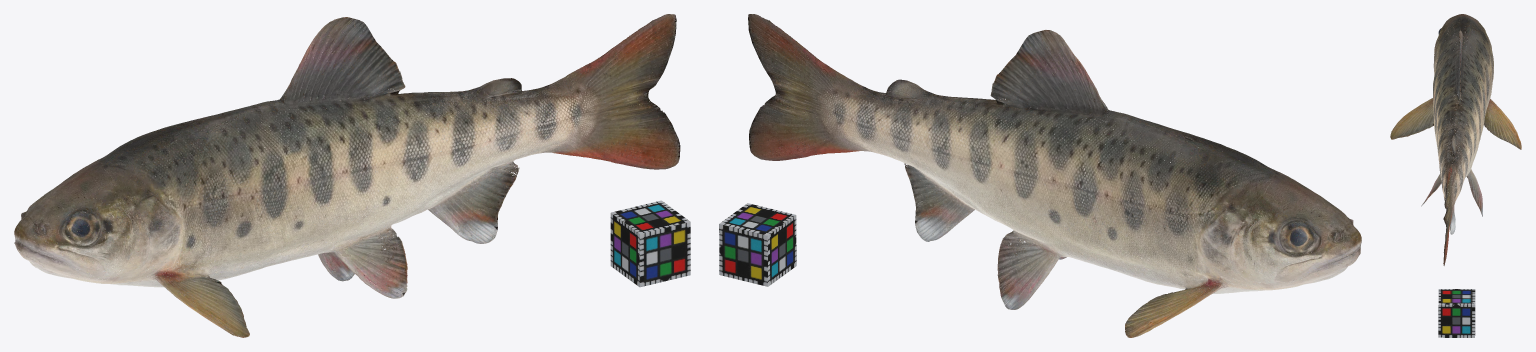
File: scan_yamame.glb
3 renders of one model, left to right at view 1: azimuth 30°, elevation 25°; view 2: azimuth 150°, elevation 25°; view 3: azimuth 270°, elevation 25°, orthographic. The views are drawn at different scales.
Parts seen in each view (by area): view 1: Object_6, Object_10, Object_4; view 2: Object_10, Object_6, Object_4; view 3: Object_10, Object_6, Object_4.
Boxes of the visible parts, left/top/right/bottom form: Object_6: left=14, top=14, right=680, bottom=337; Object_10: left=15, top=14, right=679, bottom=337; Object_4: left=610, top=200, right=690, bottom=287; Object_10: left=749, top=14, right=1361, bottom=337; Object_6: left=748, top=14, right=1361, bottom=336; Object_4: left=719, top=203, right=796, bottom=286; Object_10: left=1390, top=14, right=1521, bottom=263; Object_6: left=1392, top=14, right=1521, bottom=265; Object_4: left=1438, top=289, right=1475, bottom=337.
Size of the model in its own units: 10.86 by 5.17 by 3.02.
Materials: 3 (3 with a texture image).
